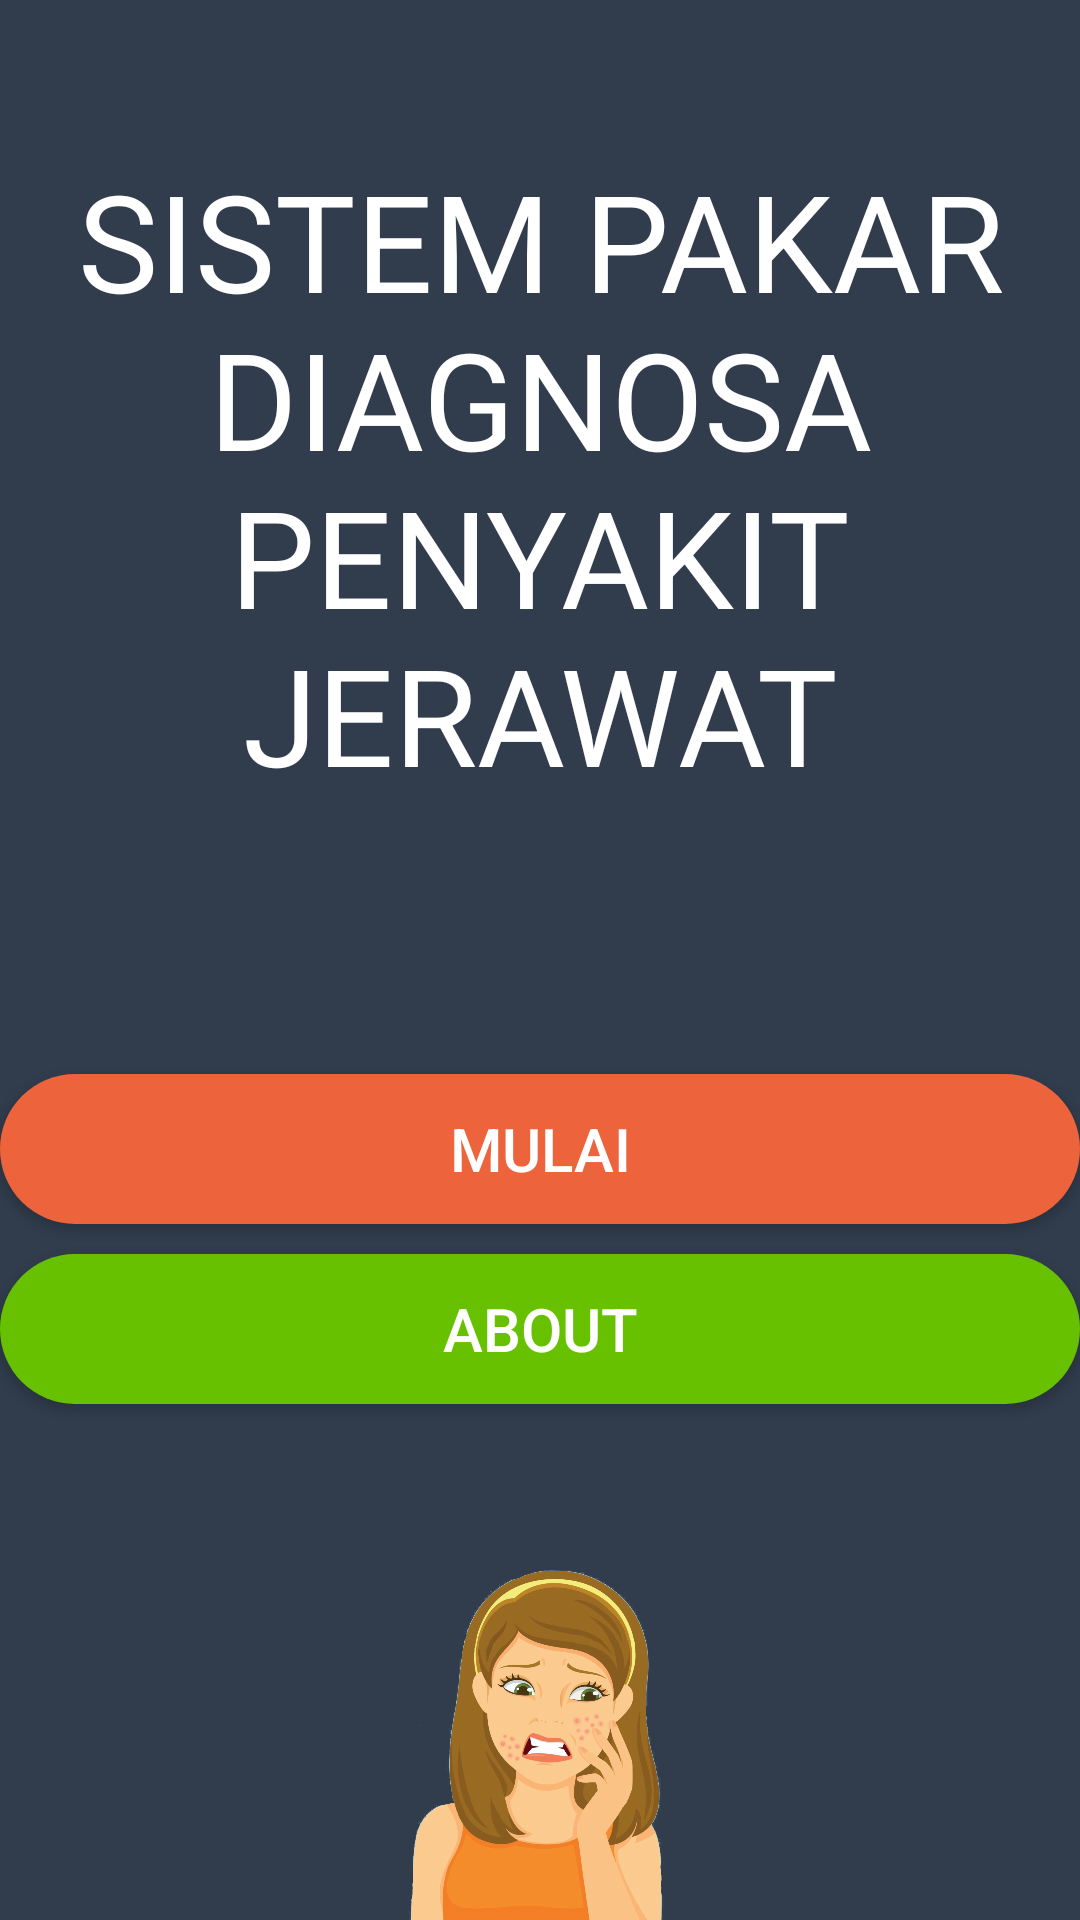

Where to tap for icons on this 1080 × 1920 app screen, as point (x, y):
girl: point (536, 1745)
